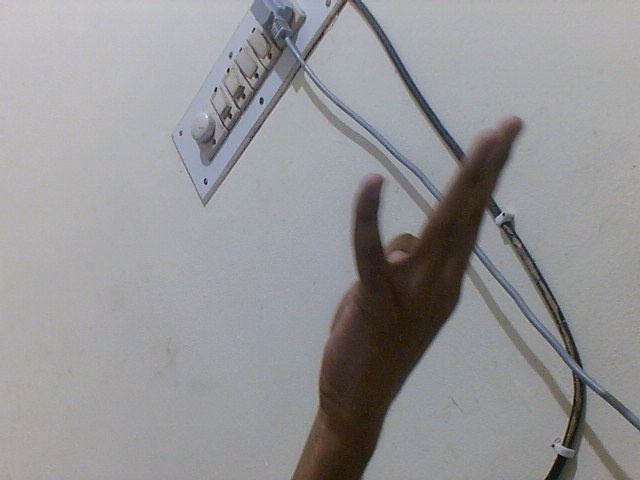hand: (311, 109, 531, 438)
